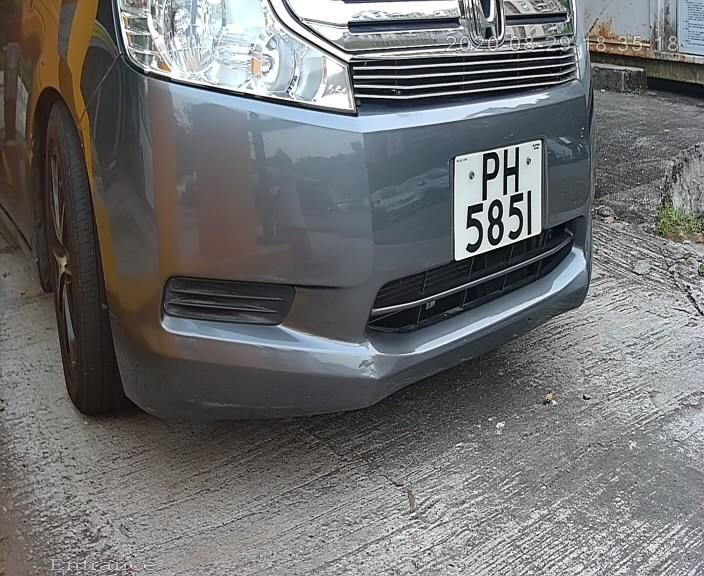License Plate: (441, 129, 554, 273)
